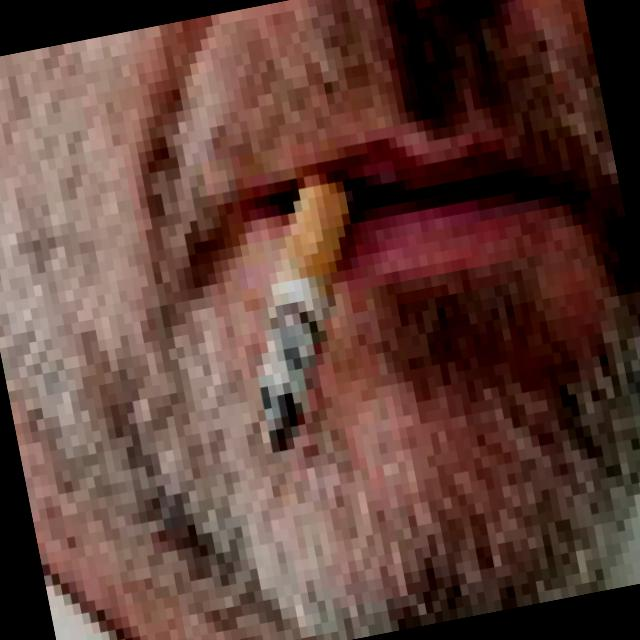cigarette: (212, 171, 402, 463)
